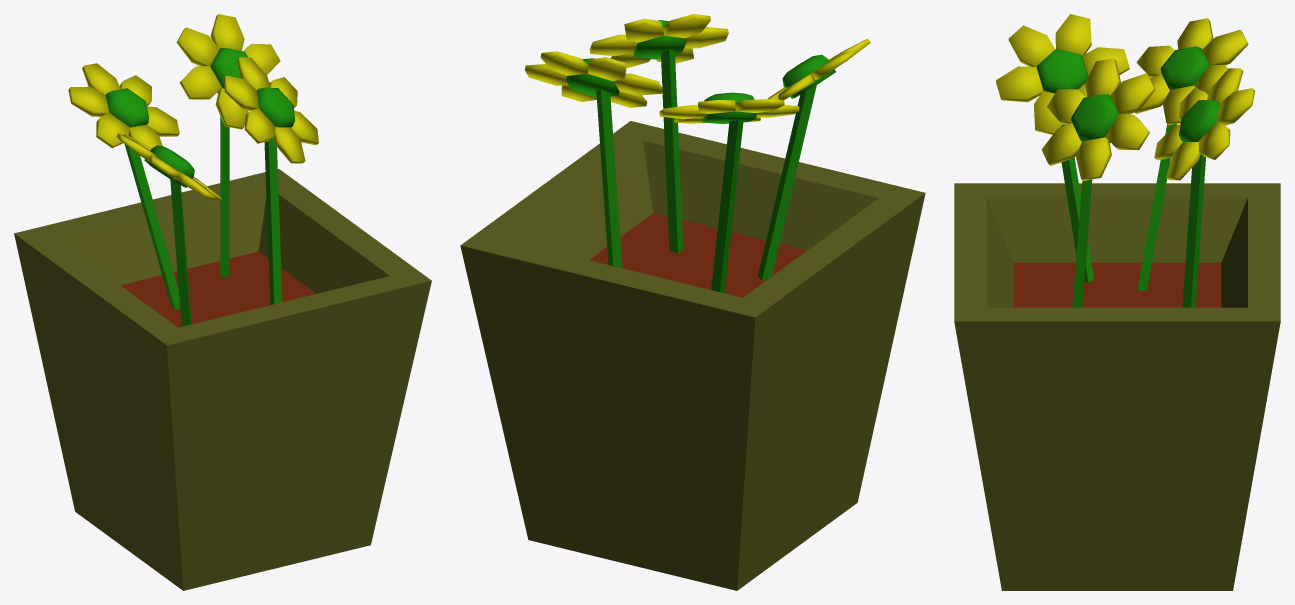
Rendered from papatya.fbx.
3 views of the same model, side by side, from view 1: azimuth 30°, elevation 25°; view 2: azimuth 150°, elevation 25°; view 3: azimuth 270°, elevation 25° (orthographic). The views are drawn at different scales.
Visible parts, largest first — view 1: papatya; view 2: papatya; view 3: papatya.
Part boxes in pixels (<box>): papatya: <box>14,14,431,590</box>; papatya: <box>460,14,925,590</box>; papatya: <box>954,14,1280,590</box>.
Bounding box in the file's own units: 76.9 × 126 × 76.9.
